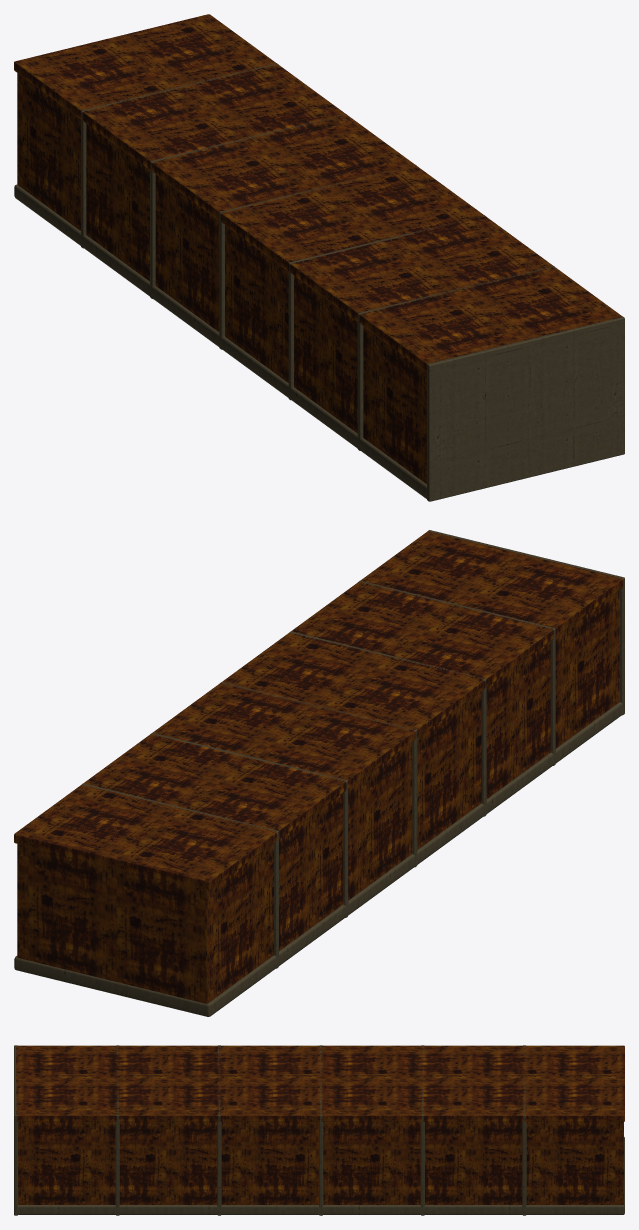
Rendered from phase_breach_0.glb.
3 renders of one model, top to bottom at view 1: azimuth 30°, elevation 25°; view 2: azimuth 150°, elevation 25°; view 3: azimuth 270°, elevation 25°, orthographic. The views are drawn at different scales.
Visible parts, largest first — view 1: PHASE_top_rail, PHASE_structural_rib, PHASE_rusted_panel.003, PHASE_rusted_panel, PHASE_rusted_panel.001, PHASE_rusted_panel.004, PHASE_rusted_panel.002, PHASE_rusted_panel.005, PHASE_concrete_sill, PHASE_structural_rib.001, PHASE_structural_rib.005, PHASE_structural_rib.004 (+2 smaller); view 2: PHASE_top_rail, PHASE_rusted_panel.005, PHASE_concrete_sill, PHASE_rusted_panel, PHASE_rusted_panel.003, PHASE_rusted_panel.001, PHASE_rusted_panel.002, PHASE_rusted_panel.004, PHASE_structural_rib.001, PHASE_structural_rib.004, PHASE_structural_rib.002, PHASE_structural_rib (+2 smaller); view 3: PHASE_top_rail, PHASE_rusted_panel.001, PHASE_rusted_panel, PHASE_rusted_panel.002, PHASE_rusted_panel.003, PHASE_rusted_panel.004, PHASE_rusted_panel.005, PHASE_concrete_sill, PHASE_structural_rib, PHASE_structural_rib.002, PHASE_structural_rib.004, PHASE_structural_rib.003 (+2 smaller).
Part boxes in pixels (<box>): PHASE_top_rail: <box>14,14,622,372</box>; PHASE_structural_rib: <box>427,316,624,501</box>; PHASE_rusted_panel.003: <box>155,174,219,331</box>; PHASE_rusted_panel: <box>363,326,426,484</box>; PHASE_rusted_panel.001: <box>294,275,357,433</box>; PHASE_rusted_panel.004: <box>86,123,149,281</box>; PHASE_rusted_panel.002: <box>225,225,288,382</box>; PHASE_rusted_panel.005: <box>17,73,80,230</box>; PHASE_concrete_sill: <box>14,184,427,498</box>; PHASE_structural_rib.001: <box>357,265,554,450</box>; PHASE_structural_rib.005: <box>81,63,278,248</box>; PHASE_structural_rib.004: <box>150,113,347,298</box>; PHASE_top_rail: <box>14,531,623,890</box>; PHASE_rusted_panel.005: <box>17,843,273,1003</box>; PHASE_concrete_sill: <box>14,702,623,1016</box>; PHASE_rusted_panel: <box>555,590,619,748</box>; PHASE_rusted_panel.003: <box>348,742,412,900</box>; PHASE_rusted_panel.001: <box>486,641,550,798</box>; PHASE_rusted_panel.002: <box>417,691,481,849</box>; PHASE_rusted_panel.004: <box>279,793,343,950</box>; PHASE_structural_rib.001: <box>358,580,555,765</box>; PHASE_structural_rib.004: <box>150,732,348,917</box>; PHASE_structural_rib.002: <box>289,631,486,816</box>; PHASE_structural_rib: <box>427,530,624,715</box>; PHASE_top_rail: <box>16,1045,624,1121</box>; PHASE_rusted_panel.001: <box>119,1122,217,1204</box>; PHASE_rusted_panel: <box>18,1122,115,1204</box>; PHASE_rusted_panel.002: <box>221,1122,318,1204</box>; PHASE_rusted_panel.003: <box>323,1122,420,1204</box>; PHASE_rusted_panel.004: <box>425,1122,522,1204</box>; PHASE_rusted_panel.005: <box>526,1122,623,1204</box>; PHASE_concrete_sill: <box>17,1137,624,1214</box>; PHASE_structural_rib: <box>14,1045,17,1215</box>; PHASE_structural_rib.002: <box>217,1045,221,1215</box>; PHASE_structural_rib.004: <box>420,1045,424,1215</box>; PHASE_structural_rib.003: <box>319,1045,323,1215</box>.
Size of the model in its own units: 3 by 2 by 11.02.
2 materials, 2 textured.
